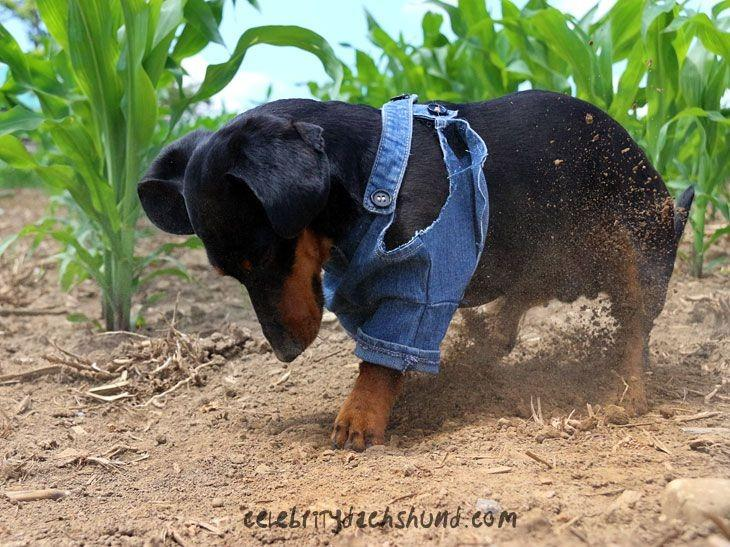puppy-dog: (133, 89, 700, 455)
